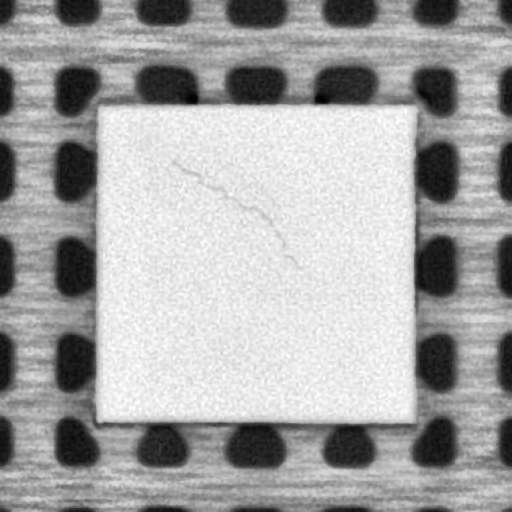DIE_CRACK: (170, 157, 304, 270)
